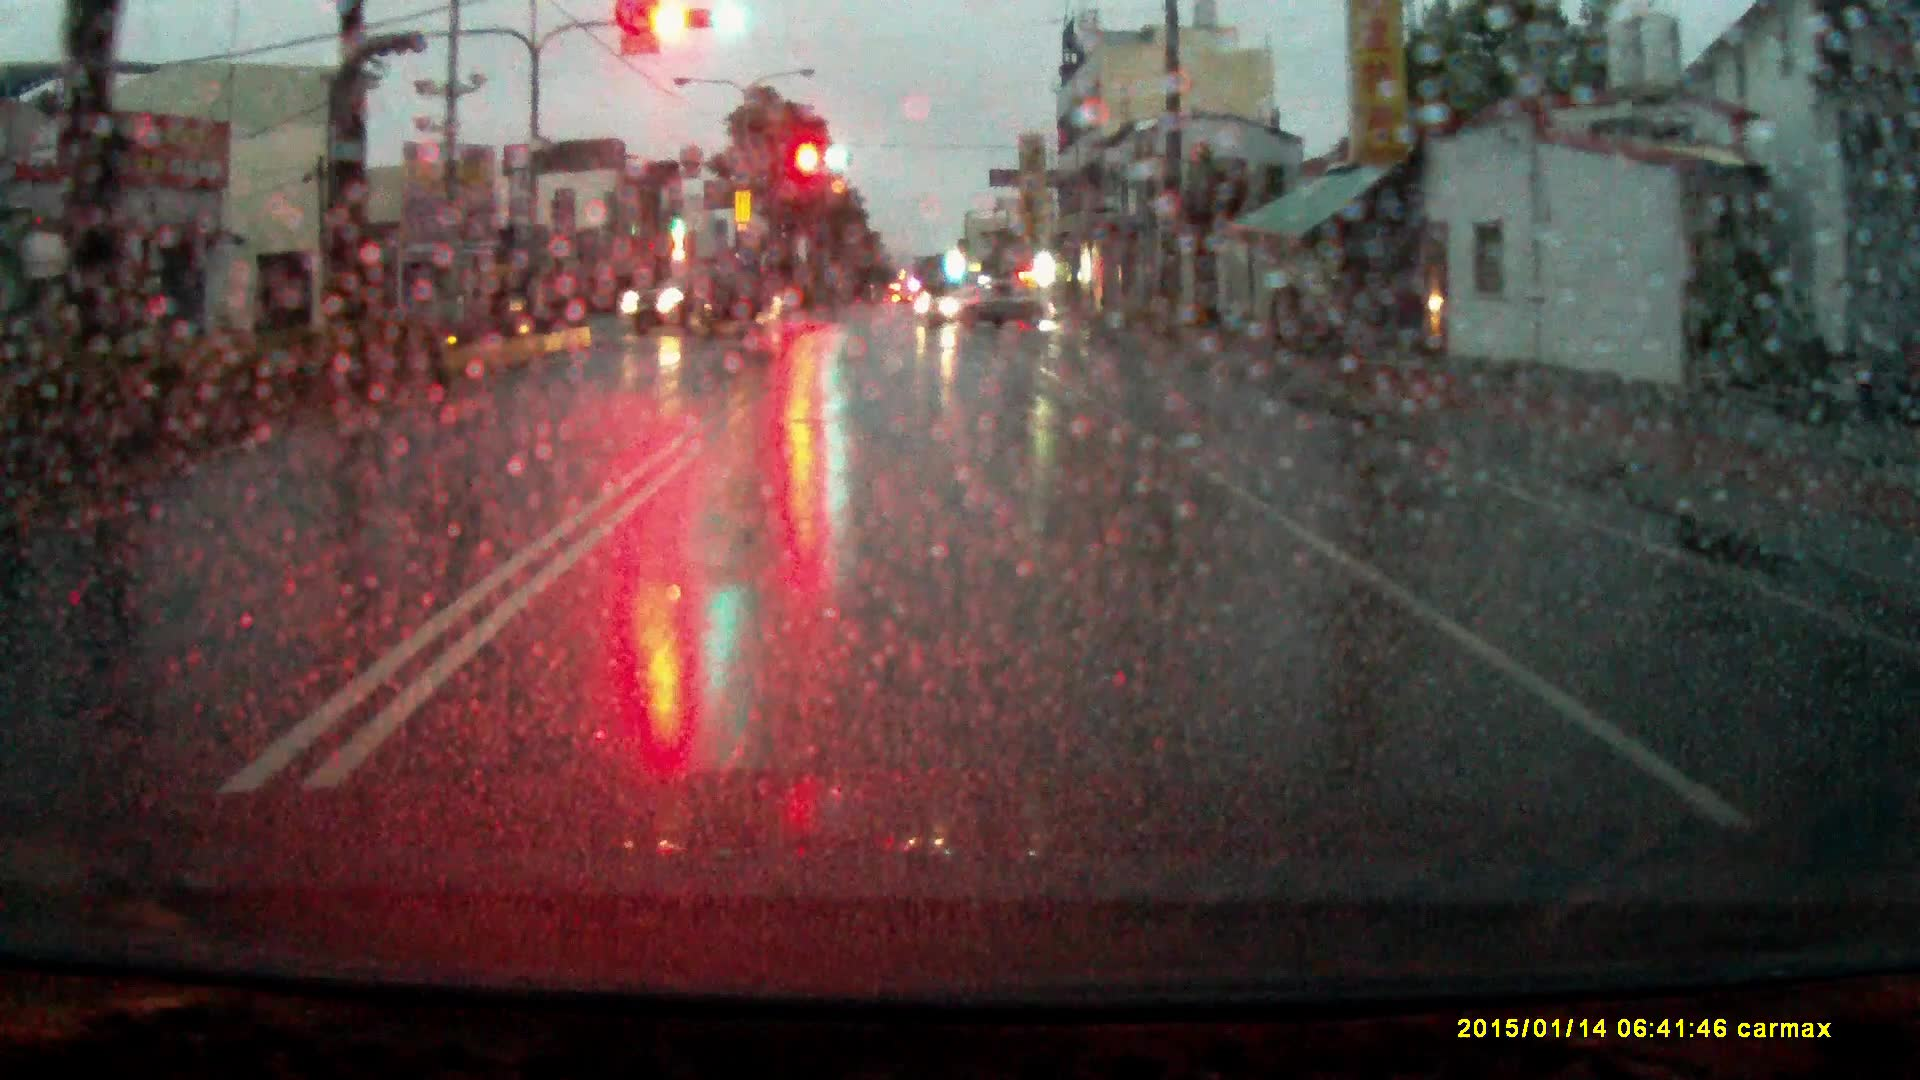vehicle: (622, 274, 785, 345), (907, 290, 1054, 340)
